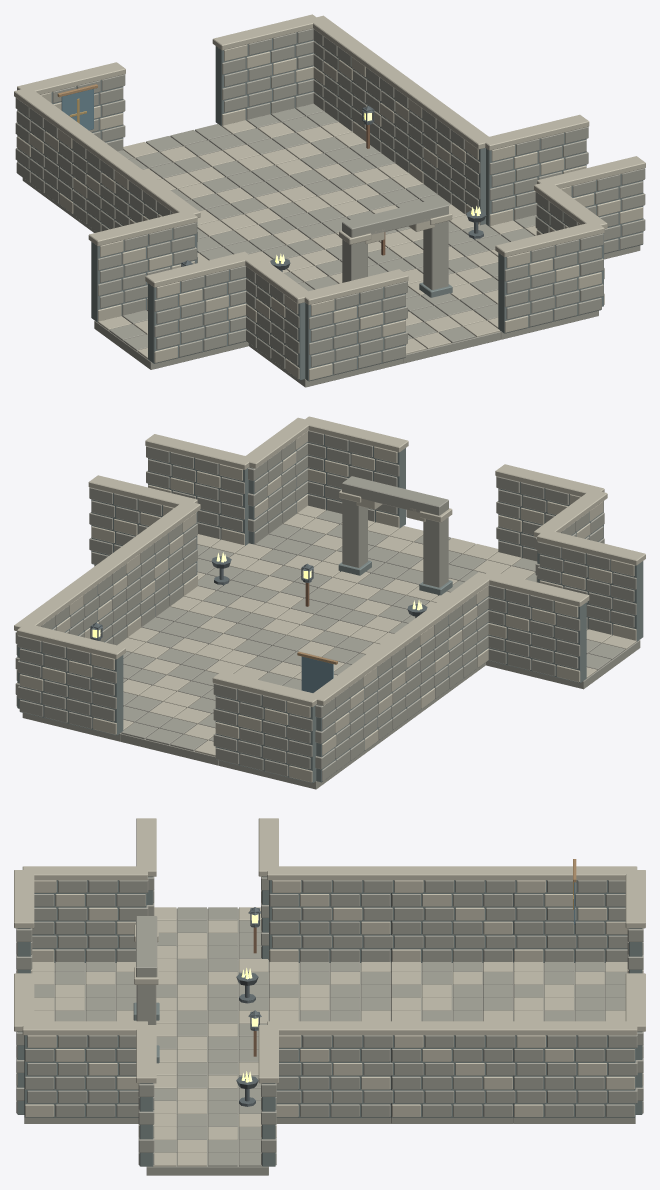
The model's file is tv_44_01_dungeon_junction.glb.
3 renders of one model, top to bottom at view 1: azimuth 30°, elevation 25°; view 2: azimuth 150°, elevation 25°; view 3: azimuth 270°, elevation 25°, orthographic. The views are drawn at different scales.
Visible parts, largest first — view 1: wall_0026, wall_0020, wall_0030, wall_0018, wall_0017, wall_0031, wall_0027, wall_0019, arch_0033, wall_0024, floor_stone_0009, floor_stone_0010 (+22 smaller); view 2: wall_0030, wall_0023, wall_0017, wall_0018, wall_0032, wall_0026, arch_0033, wall_0024, wall_0025, wall_0027, wall_0022, wall_0020 (+21 smaller); view 3: wall_0028, wall_0029, wall_0022, wall_0021, wall_0027, wall_0025, wall_0024, wall_0019, floor_stone_0016, floor_stone_0004, floor_stone_0003, floor_stone_0005 (+22 smaller).
Boxes of the visible parts, x1,y1,x2,y2 form: wall_0026: (495,221,604,333); wall_0020: (301,269,408,381); wall_0030: (212,14,320,126); wall_0018: (145,251,248,363); wall_0017: (88,210,197,322); wall_0031: (485,114,589,226); wall_0027: (421,98,493,225); wall_0019: (241,253,312,380); arch_0033: (339,198,452,297); wall_0024: (14,87,86,214); floor_stone_0009: (178,165,330,230); floor_stone_0010: (123,124,273,189); wall_0030: (17,623,125,735); wall_0023: (212,671,319,783); wall_0017: (481,571,589,683); wall_0018: (537,531,645,641); wall_0032: (145,434,251,545); wall_0026: (303,416,408,527); arch_0033: (338,476,452,595); wall_0024: (310,655,380,782); wall_0025: (241,417,312,544); wall_0027: (128,500,200,626); wall_0022: (365,613,437,740); wall_0020: (495,464,604,561); wall_0028: (390,1021,515,1117); wall_0029: (512,1021,637,1117); wall_0022: (390,866,515,962); wall_0021: (267,866,392,962); wall_0027: (267,1021,392,1117); wall_0025: (22,1021,147,1117); wall_0024: (512,866,637,962); wall_0019: (22,866,148,962); floor_stone_0016: (146,1114,268,1175); floor_stone_0004: (391,961,513,1011); floor_stone_0003: (269,961,390,1011); floor_stone_0005: (513,961,627,1011).
Bounding box in the file's own units: 20.11 × 4.13 × 20.67.
